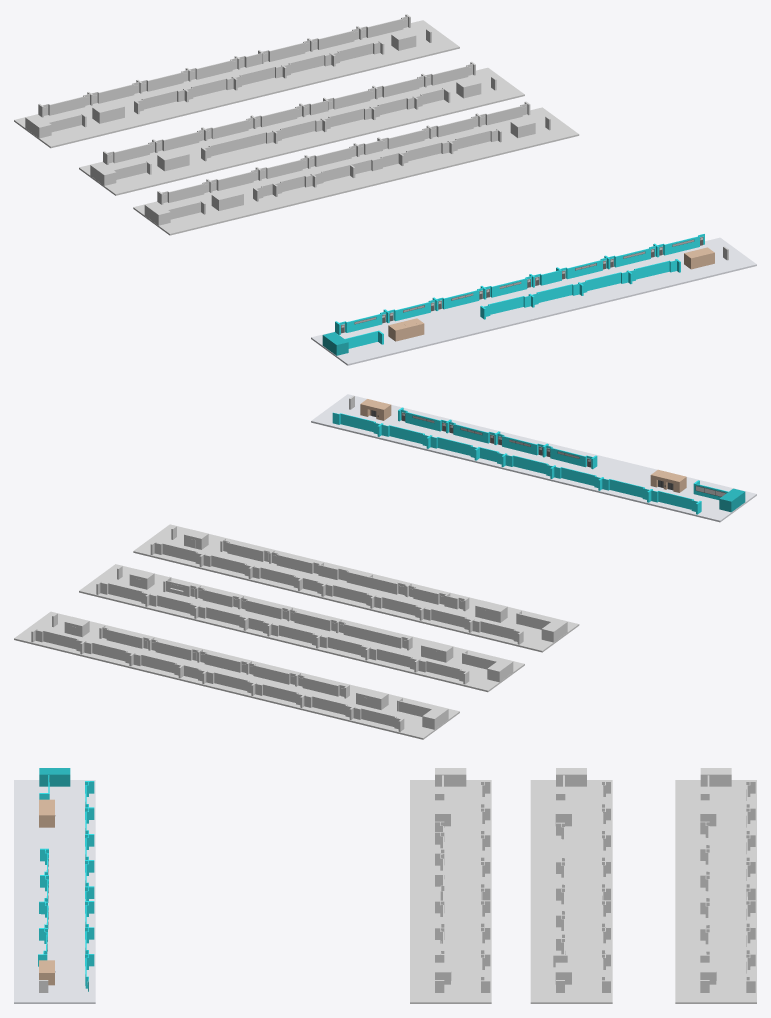
3 views of the same model, one above another, from view 1: azimuth 30°, elevation 25°; view 2: azimuth 150°, elevation 25°; view 3: azimuth 270°, elevation 25° (orthographic). The views are drawn at different scales.
Visible parts, largest first — view 1: Cube.341, Cube.135, Cube, Cube.342, Cube.046; view 2: Cube.341, Cube.342, Cube.135, Cube, Cube.046; view 3: Cube, Cube.341, Cube.135, Cube.342, Cube.331, Cube.045, Cube.352, Cube.125, Cube.128, Cube.042.
Boxes of the visible parts, x1,y1,x2,y2 form: Cube.341: (311,237,756,365); Cube.135: (79,67,524,195); Cube: (14,20,459,148); Cube.342: (133,107,579,235); Cube.046: (208,132,265,156); Cube.341: (311,394,756,522); Cube.342: (133,524,579,652); Cube.135: (79,564,524,692); Cube: (14,611,459,739); Cube.046: (343,624,401,648); Cube: (675,780,756,1003); Cube.341: (14,780,95,1003); Cube.135: (530,780,612,1003); Cube.342: (410,780,491,1003); Cube.331: (39,768,70,786); Cube.045: (700,768,731,786); Cube.352: (435,768,466,786); Cube.125: (556,768,586,786); Cube.128: (555,800,571,826); Cube.042: (700,800,716,826).
Size of what is drawn, in the model's own units: 53356 by 1578 by 75364.
